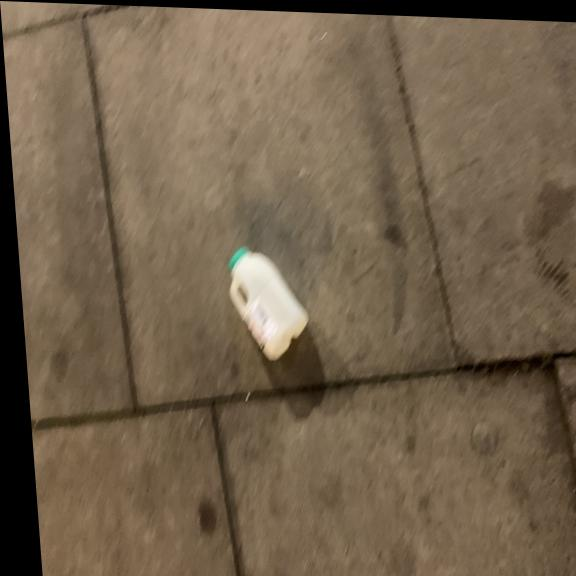Plastik: (222, 234, 314, 364)
